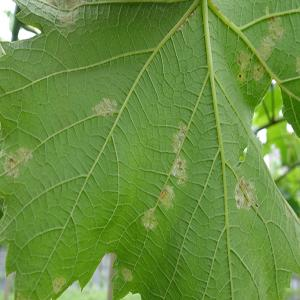Folha: (0, 0, 299, 298)
Fungo: (120, 120, 188, 283), (140, 120, 188, 232), (236, 15, 286, 84), (158, 121, 188, 210), (251, 34, 275, 83), (170, 121, 188, 185), (234, 131, 262, 167), (3, 146, 33, 179), (234, 175, 258, 211), (92, 96, 118, 118), (170, 120, 186, 154), (236, 49, 252, 83), (170, 155, 188, 185), (140, 207, 158, 232), (3, 152, 19, 179), (268, 16, 286, 40), (159, 184, 175, 210), (176, 9, 194, 32), (16, 146, 33, 167), (235, 145, 248, 167), (52, 275, 66, 293), (171, 157, 183, 177), (119, 290, 141, 300), (121, 266, 133, 282), (238, 146, 247, 163), (177, 173, 187, 186), (294, 54, 300, 75), (160, 189, 166, 199)
